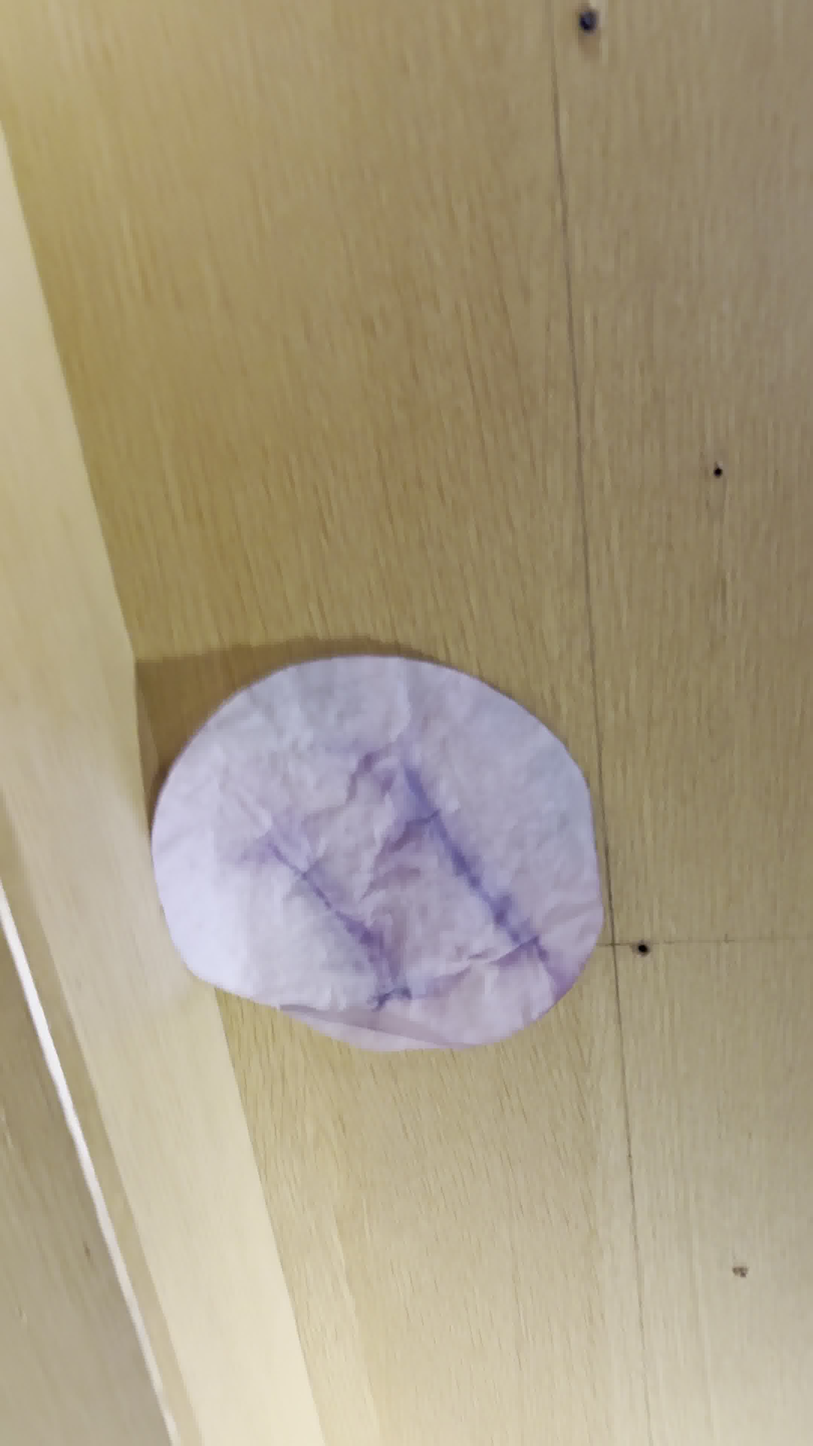Target: (150, 654, 605, 1055)
